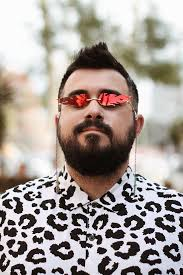g.y: (97, 91, 131, 107)
